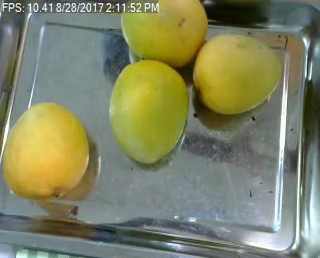Mango: (0, 102, 88, 200), (110, 60, 190, 165), (194, 35, 283, 113), (118, 0, 210, 67)
